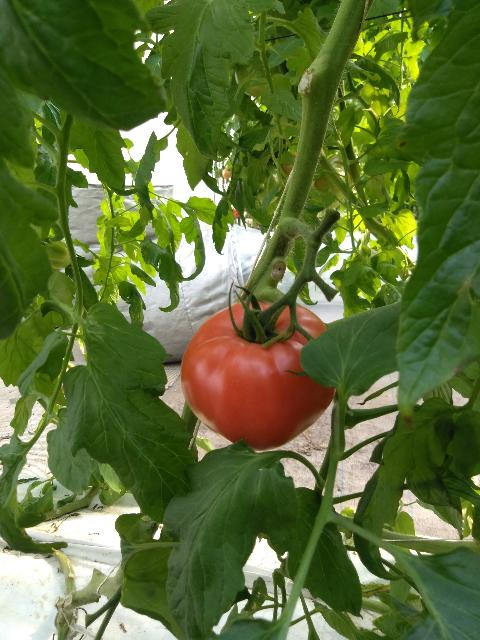b_fully_ripened: (181, 300, 338, 451)
